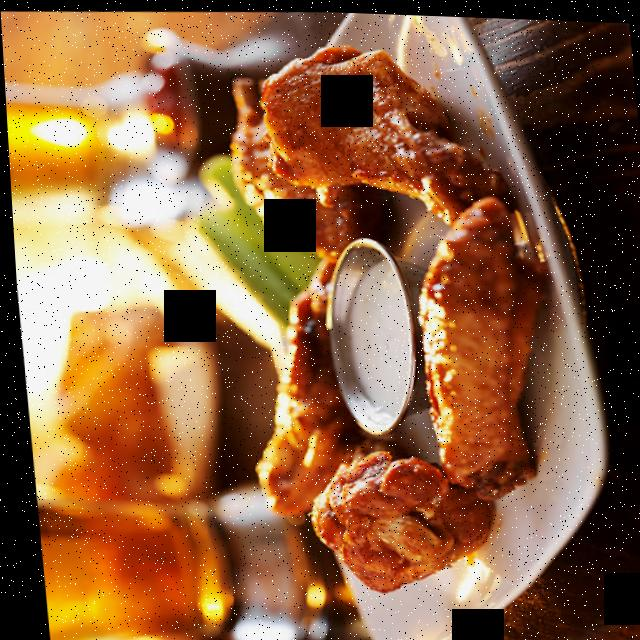Frango: (207, 32, 561, 598)
